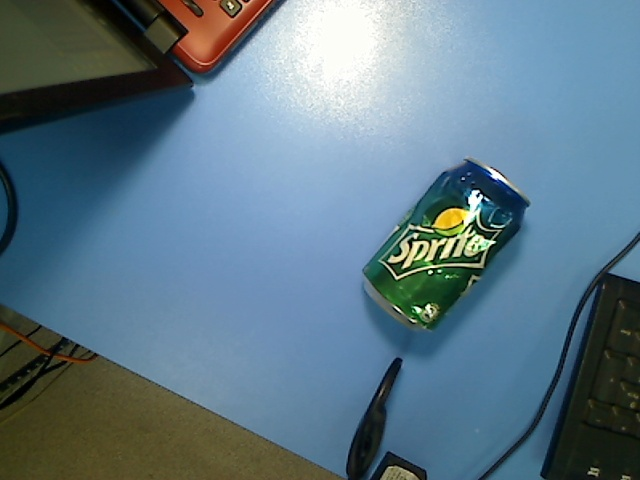can: (359, 155, 533, 337)
